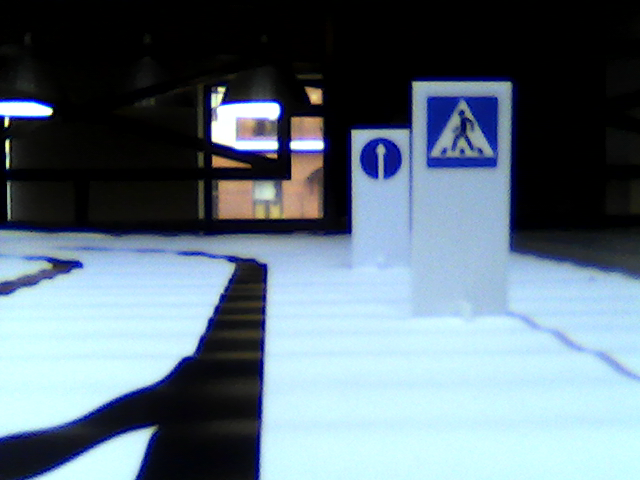forw: (359, 136, 400, 183)
pesh: (424, 93, 498, 170)
